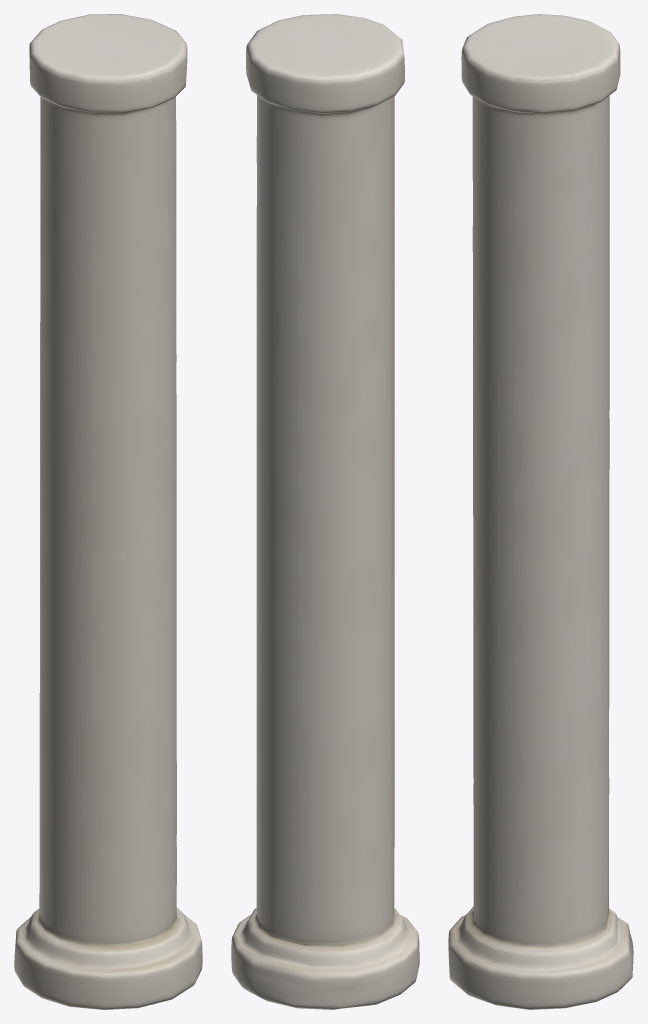
The model's file is Meshy_AI_Pillar_of_Simplicity_0101001812_texture.fbx.
3 renders of one model, left to right at view 1: azimuth 30°, elevation 25°; view 2: azimuth 150°, elevation 25°; view 3: azimuth 270°, elevation 25°, orthographic.
Visible parts, largest first — view 1: Mesh0; view 2: Mesh0; view 3: Mesh0.
Boxes of the visible parts, x1=… form: Mesh0: x1=14, y1=14, x2=202, y2=1009; Mesh0: x1=231, y1=14, x2=419, y2=1009; Mesh0: x1=448, y1=14, x2=633, y2=1009.
Size of the model in its own units: 35.11 by 192 by 34.7.
Materials: 1 (1 with a texture image).
